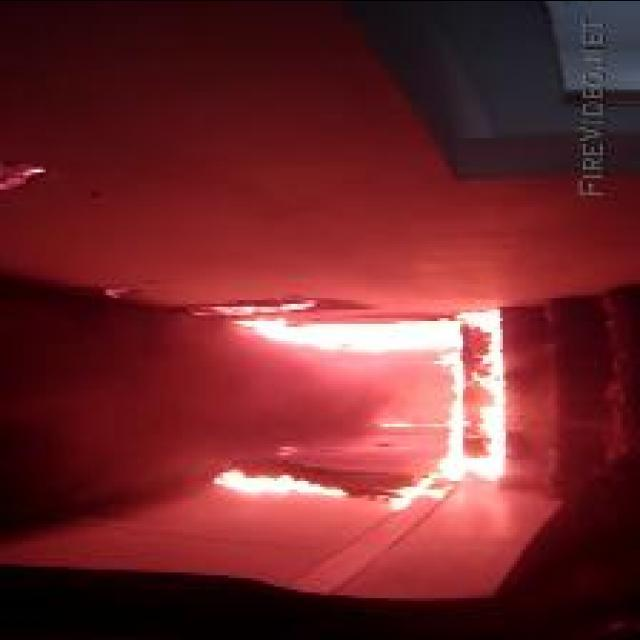Fire: (212, 307, 504, 510)
